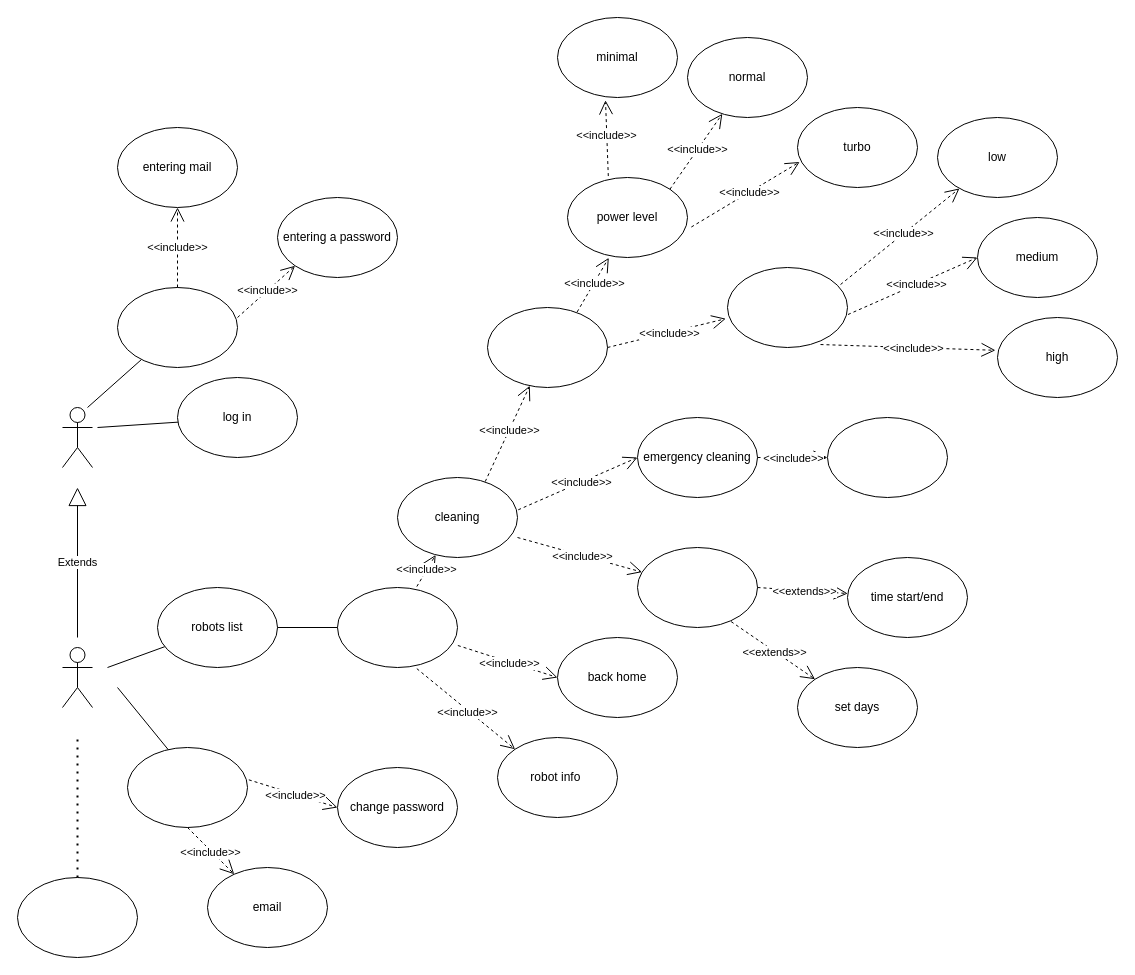
Image size: 1135x975. Some labels were removed from this diagram. Here are the shapes that lost their labels. From the top down, the centre of each, then its label:
the point at 177,327: regisration
the point at 787,307: wet cleaning
the point at 547,347: clean now
the point at 77,437: User
the point at 887,457: choice location
the point at 697,587: shedule
the point at 397,627: robot
the point at 77,677: Authorized user
the point at 187,787: user info
the point at 77,917: upgrades
